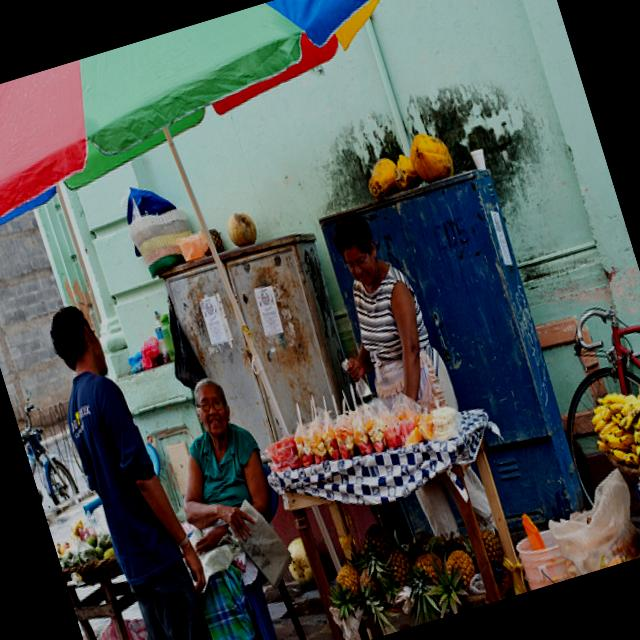Vehicle: (8, 382, 82, 517)
